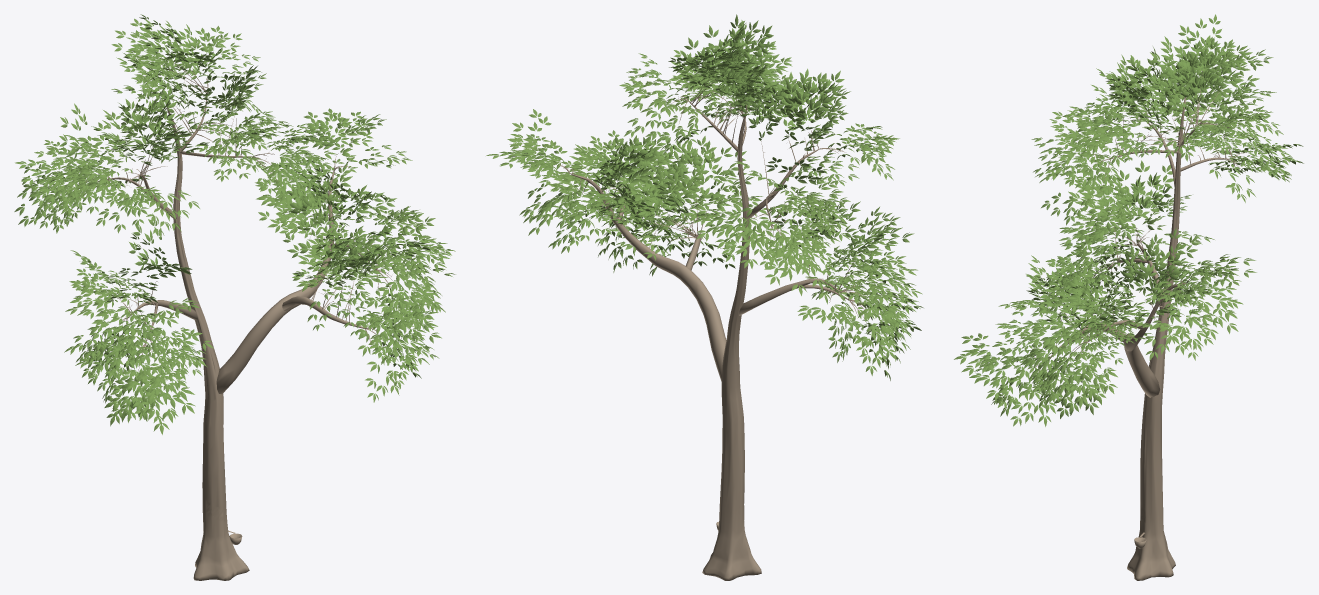
3 views of the same model, side by side, from view 1: azimuth 30°, elevation 25°; view 2: azimuth 150°, elevation 25°; view 3: azimuth 270°, elevation 25° (orthographic). The views are drawn at different scales.
Visible parts, largest first — view 1: V21_LOD0_Foliage, V21_LOD0_Body; view 2: V21_LOD0_Foliage, V21_LOD0_Body; view 3: V21_LOD0_Foliage, V21_LOD0_Body.
Boxes of the visible parts, x1,y1,x2,y2 form: V21_LOD0_Foliage: (14, 14, 455, 434); V21_LOD0_Body: (79, 61, 393, 580); V21_LOD0_Foliage: (486, 14, 923, 380); V21_LOD0_Body: (559, 75, 866, 580); V21_LOD0_Foliage: (954, 14, 1303, 426); V21_LOD0_Body: (1028, 71, 1246, 580).
Bounding box in the file's own units: 9 × 13 × 7.76.
